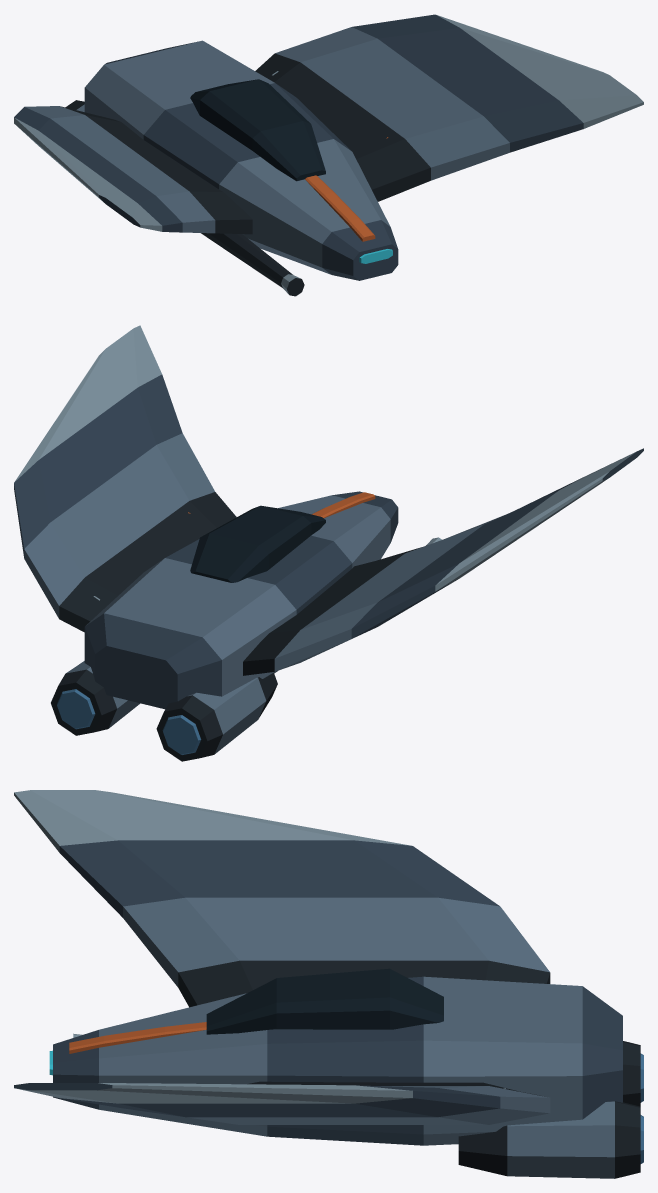
The model's file is FangDamaged.obj.
The picture shows the model from 3 angles, top to bottom: view 1: azimuth 30°, elevation 25°; view 2: azimuth 150°, elevation 25°; view 3: azimuth 270°, elevation 25°; orthographic projection. The views are drawn at different scales.
Parts seen in each view (by area): view 1: starboard_wing, fuselage, port_wing, canopy, port_cannon, copper_spine; view 2: starboard_wing, fuselage, port_wing, canopy, port_engine, starboard_engine, starboard_exhaust, port_exhaust; view 3: port_wing, fuselage, starboard_wing, canopy, starboard_engine, copper_spine, port_engine.
Part boxes in pixels (bbox=[...]): starboard_wing: bbox=[255, 14, 643, 201]; fuselage: bbox=[84, 40, 398, 280]; port_wing: bbox=[14, 106, 252, 234]; canopy: bbox=[190, 79, 325, 181]; port_cannon: bbox=[201, 233, 304, 296]; copper_spine: bbox=[305, 175, 375, 241]; starboard_wing: bbox=[14, 325, 236, 632]; fuselage: bbox=[84, 491, 398, 709]; port_wing: bbox=[243, 448, 643, 675]; canopy: bbox=[190, 505, 325, 582]; port_engine: bbox=[156, 673, 277, 761]; starboard_engine: bbox=[51, 661, 140, 735]; starboard_exhaust: bbox=[57, 689, 95, 729]; port_exhaust: bbox=[162, 715, 201, 754]; port_wing: bbox=[14, 790, 550, 1007]; fuselage: bbox=[53, 976, 622, 1145]; starboard_wing: bbox=[14, 1081, 550, 1124]; canopy: bbox=[206, 968, 443, 1034]; starboard_engine: bbox=[458, 1101, 640, 1178]; copper_spine: bbox=[69, 1022, 206, 1053]; port_engine: bbox=[623, 1041, 640, 1106].
Bounding box in the file's own units: 5.14 × 1.72 × 4.67.
